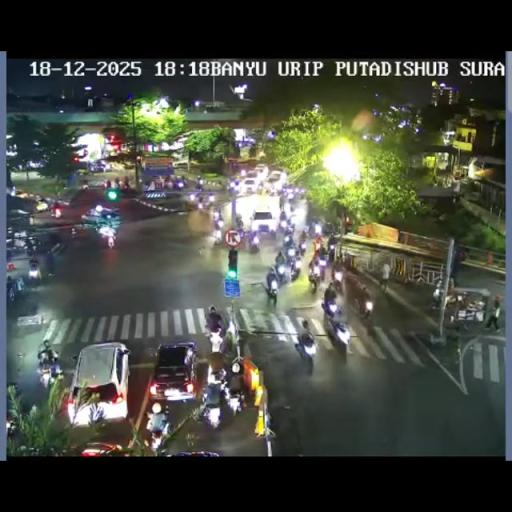Car: (66, 342, 130, 425), (149, 342, 198, 402), (442, 287, 489, 325), (81, 205, 121, 228), (250, 209, 278, 236), (78, 442, 126, 455), (264, 170, 286, 190), (238, 176, 260, 194), (87, 160, 109, 172), (254, 163, 270, 178)
Motorcycle: (264, 214, 347, 308), (270, 400, 302, 454), (37, 348, 63, 388), (294, 322, 316, 368), (223, 382, 244, 417), (326, 316, 350, 346), (200, 398, 222, 429), (441, 332, 461, 364), (206, 323, 225, 353), (320, 293, 342, 318), (484, 300, 500, 330), (148, 428, 167, 453), (357, 288, 372, 319), (206, 364, 225, 387), (312, 252, 329, 276), (23, 235, 40, 256), (100, 226, 116, 248), (278, 213, 294, 235), (331, 266, 344, 293), (261, 407, 274, 433), (282, 230, 296, 254), (6, 276, 18, 304), (27, 262, 42, 284), (306, 220, 324, 238), (266, 270, 278, 296), (430, 289, 444, 310), (274, 260, 288, 281), (288, 257, 300, 281), (247, 230, 261, 250), (6, 413, 16, 437), (322, 221, 338, 235), (308, 268, 318, 290), (297, 237, 307, 255), (202, 192, 214, 207), (227, 179, 239, 194), (282, 199, 292, 217), (50, 204, 62, 218), (327, 246, 336, 263), (212, 227, 222, 242), (215, 215, 225, 229), (275, 250, 285, 264), (235, 216, 244, 229), (70, 226, 78, 240), (189, 190, 198, 202), (122, 180, 132, 190), (285, 190, 295, 200), (194, 181, 204, 190), (114, 177, 120, 189), (166, 178, 172, 188), (106, 179, 111, 189), (82, 182, 88, 190)
